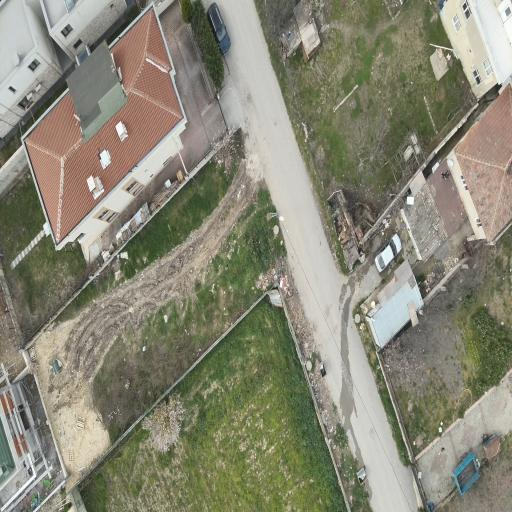car: (207, 3, 230, 55), (375, 234, 401, 272)
